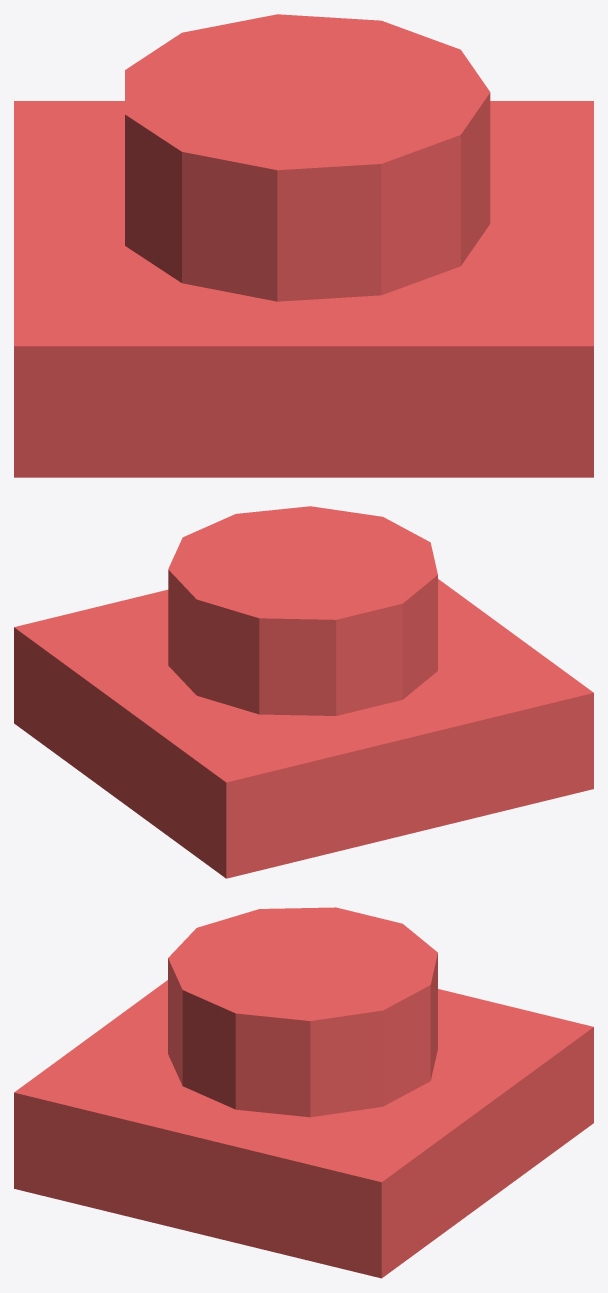
Rendered from tile_479.glb.
The picture shows the model from 3 angles, top to bottom: view 1: azimuth 30°, elevation 25°; view 2: azimuth 150°, elevation 25°; view 3: azimuth 270°, elevation 25°; orthographic projection. The views are drawn at different scales.
Size of the model in its own units: 0.1912 by 0.07 by 0.1912.
